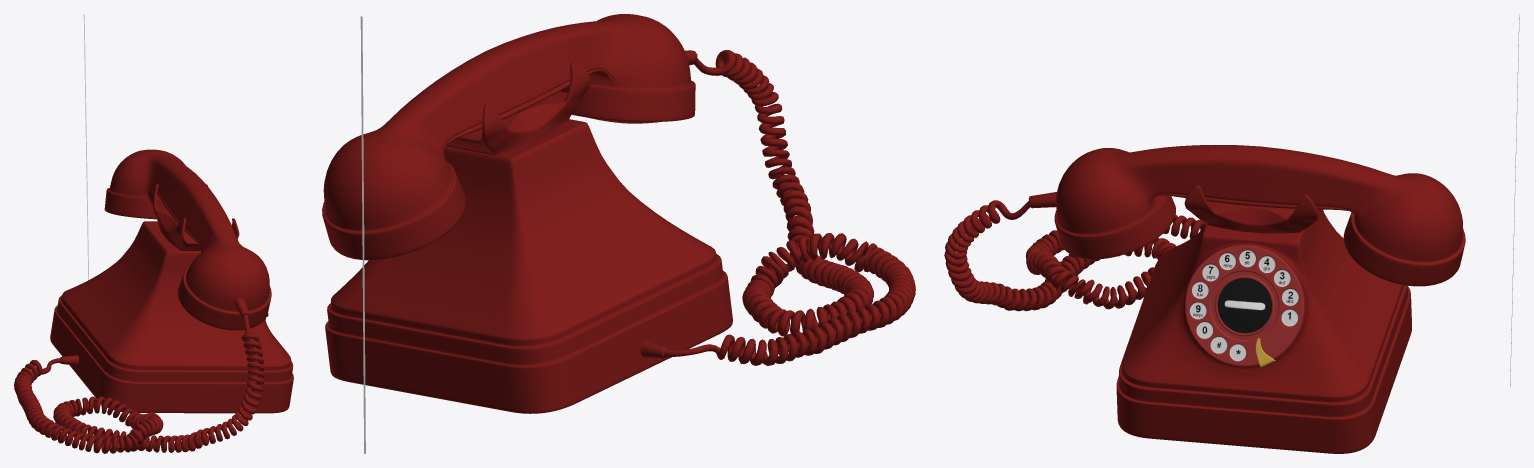
3 views of the same model, side by side, from view 1: azimuth 30°, elevation 25°; view 2: azimuth 150°, elevation 25°; view 3: azimuth 270°, elevation 25° (orthographic). The views are drawn at different scales.
Parts seen in each view (by area): view 1: 14024_Rotary_Phone_on_Base_v1_l2, Плоскость; view 2: 14024_Rotary_Phone_on_Base_v1_l2, Плоскость; view 3: 14024_Rotary_Phone_on_Base_v1_l2.
Part boxes in pixels (box(x1,y1,x2,y2)): 14024_Rotary_Phone_on_Base_v1_l2: box(14, 149, 293, 453); Плоскость: box(83, 14, 88, 279); 14024_Rotary_Phone_on_Base_v1_l2: box(322, 14, 915, 413); Плоскость: box(360, 16, 365, 453); 14024_Rotary_Phone_on_Base_v1_l2: box(944, 145, 1465, 453).
Size of the model in its own units: 33.6 by 33.18 by 44.5.
2 materials, 1 textured.
